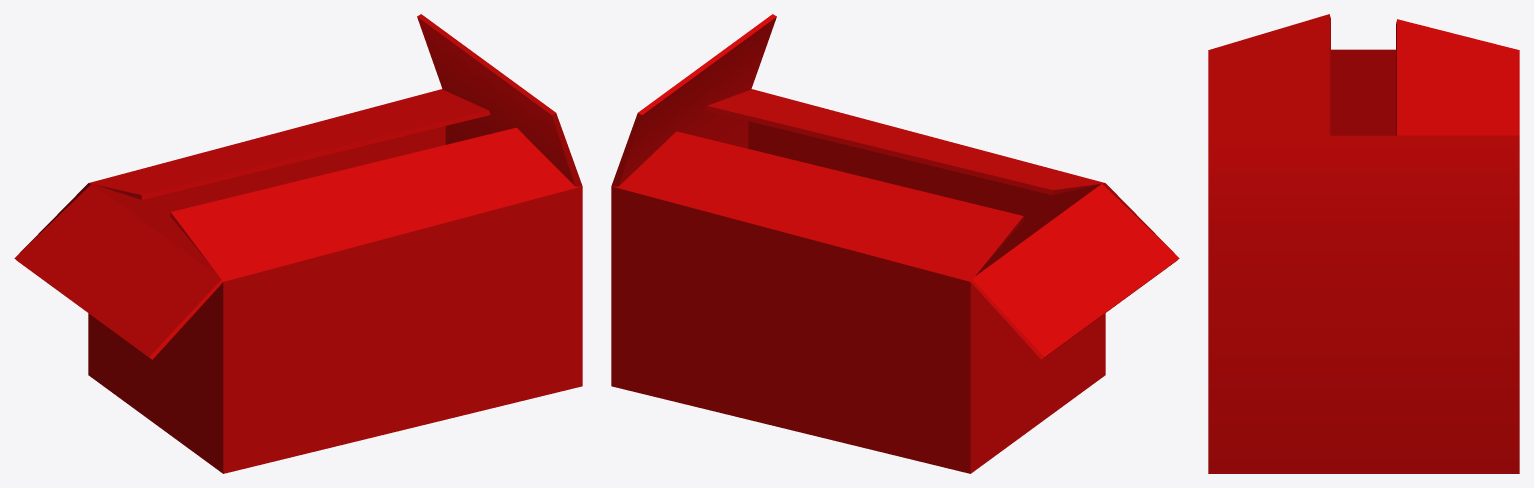
Rendered from Attic_CardboardBox_04_LP.glb.
3 views of the same model, side by side, from view 1: azimuth 30°, elevation 25°; view 2: azimuth 150°, elevation 25°; view 3: azimuth 270°, elevation 25° (orthographic). The views are drawn at different scales.
Parts seen in each view (by area): view 1: Attic_CardboardBox_04_LP; view 2: Attic_CardboardBox_04_LP; view 3: Attic_CardboardBox_04_LP.
Boxes of the visible parts, <box> form: Attic_CardboardBox_04_LP: <box>14,14,582,473</box>; Attic_CardboardBox_04_LP: <box>611,14,1179,473</box>; Attic_CardboardBox_04_LP: <box>1208,14,1519,473</box>.
Size of the model in its own units: 0.8527 by 0.5264 by 0.4602.
